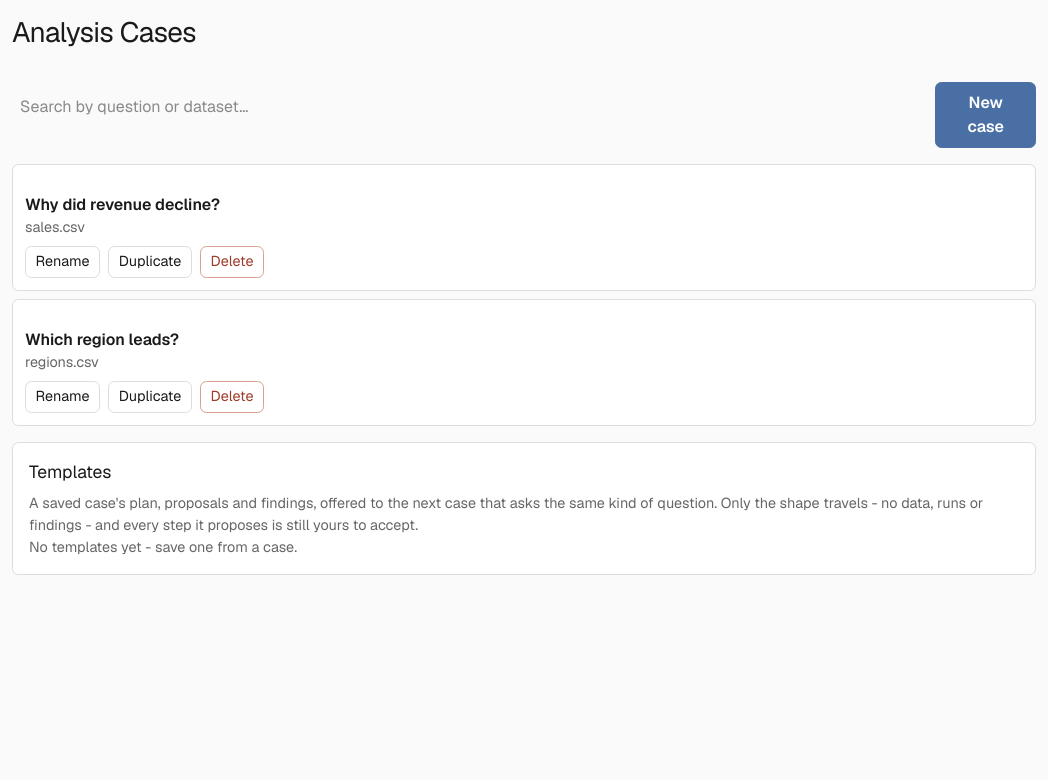
Scenario: CaseList › renames a case inline and the list shows the correction
Expected: the text "Why did revenue decline?" is shown, [25,193,220,217]
Click the button with aria-label "rename why did revenue decline" at (63, 262), box [25,246,100,278]
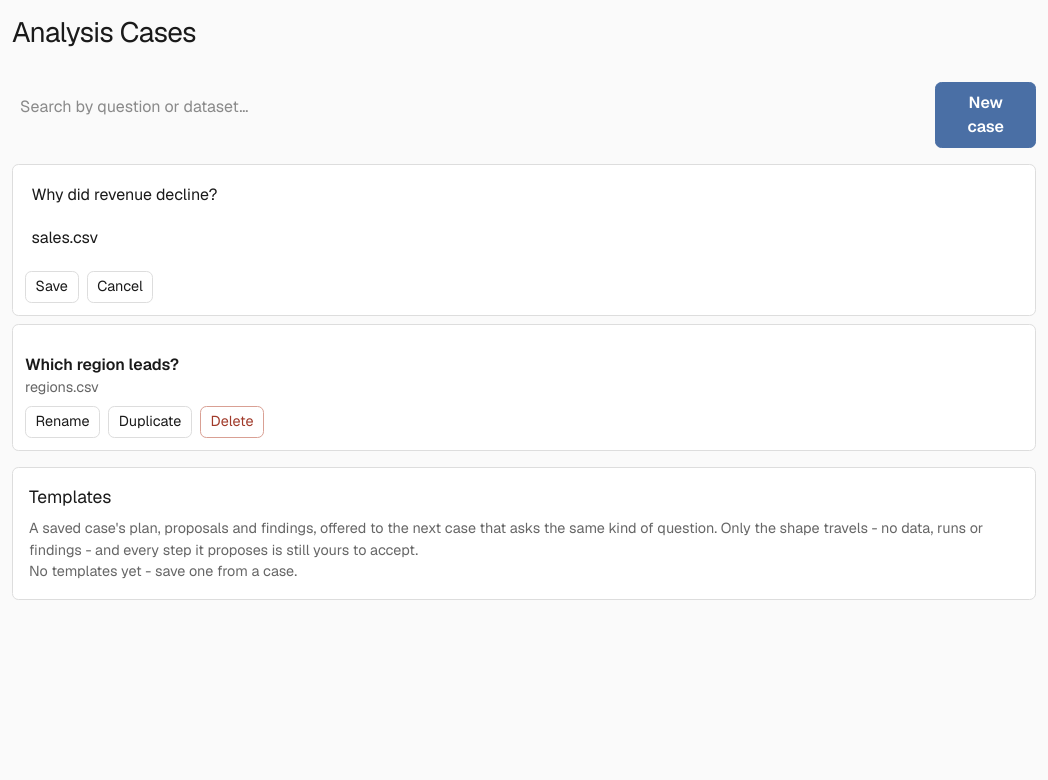
Replace the text in the field named "case question" with "Why did revenue double?" at (524, 195), box [25,177,1023,213]
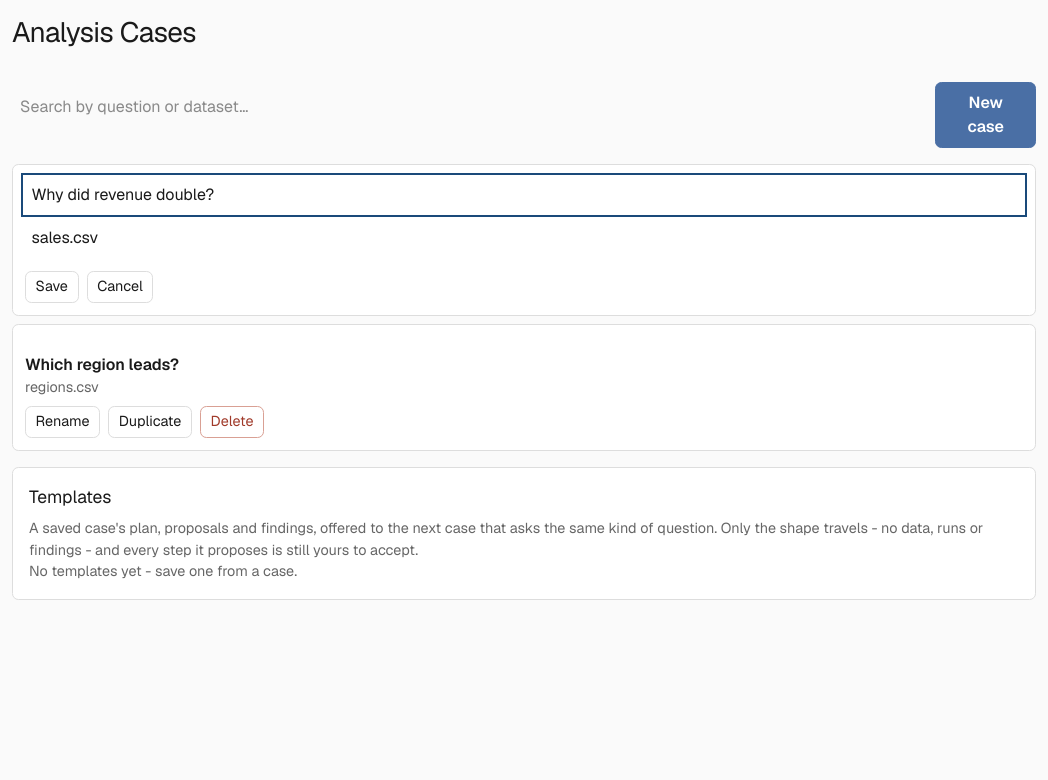
Click the button "Save" at (52, 287), box [25,271,78,302]
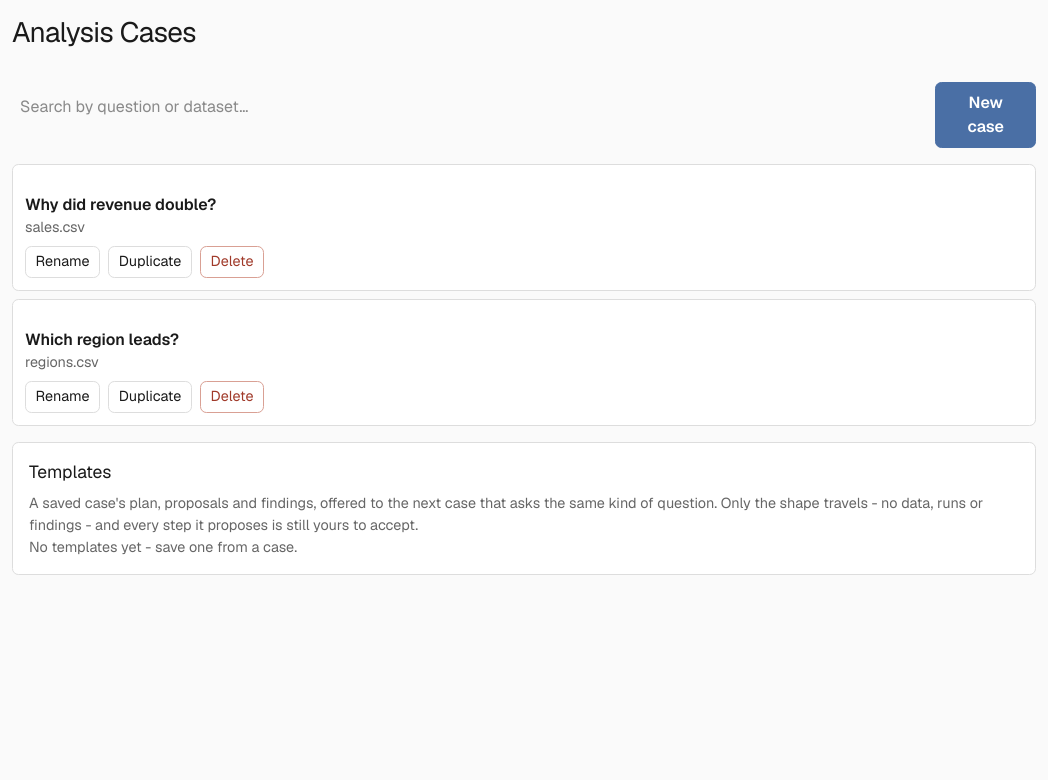
Expected: the button "Why did revenue decline?" is not shown
Now the text "Why did revenue double?" is shown, box [25,193,216,217]
